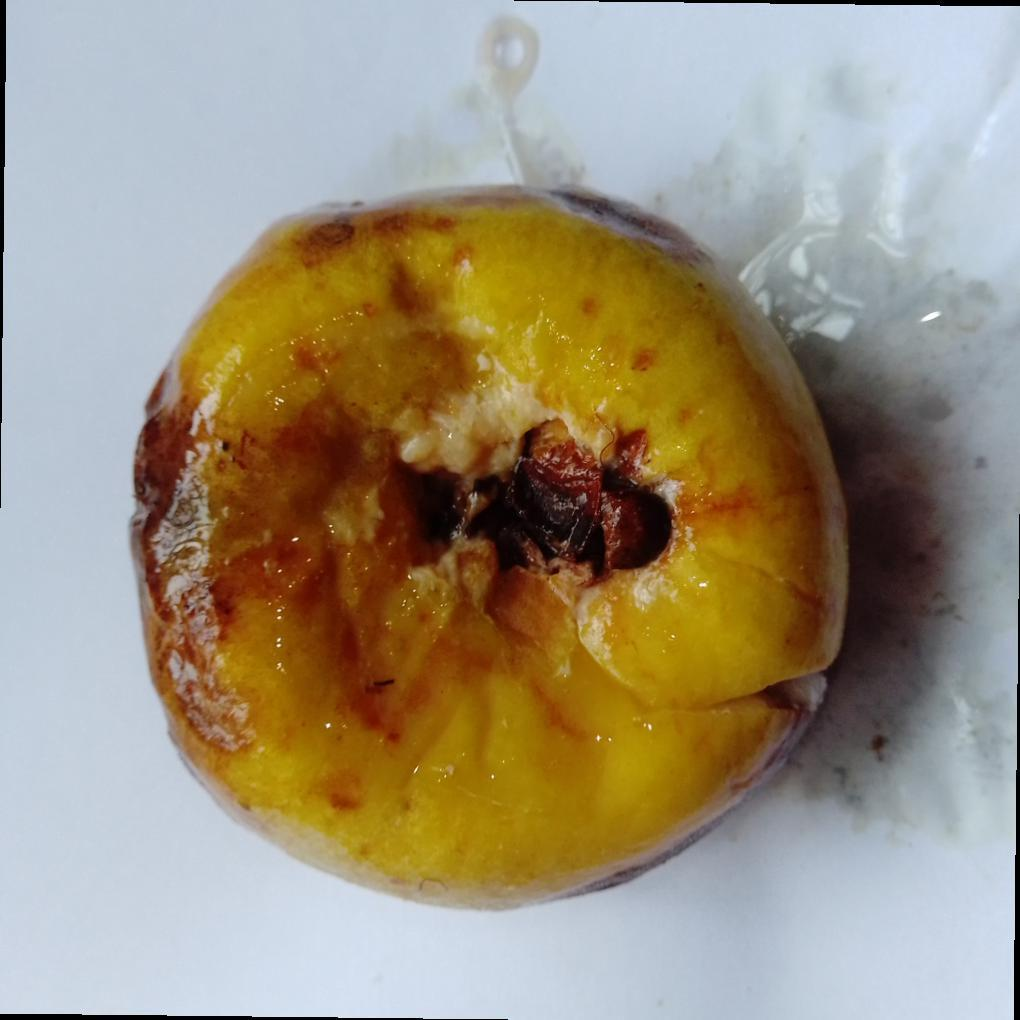FreshOrange: (126, 185, 849, 916)
